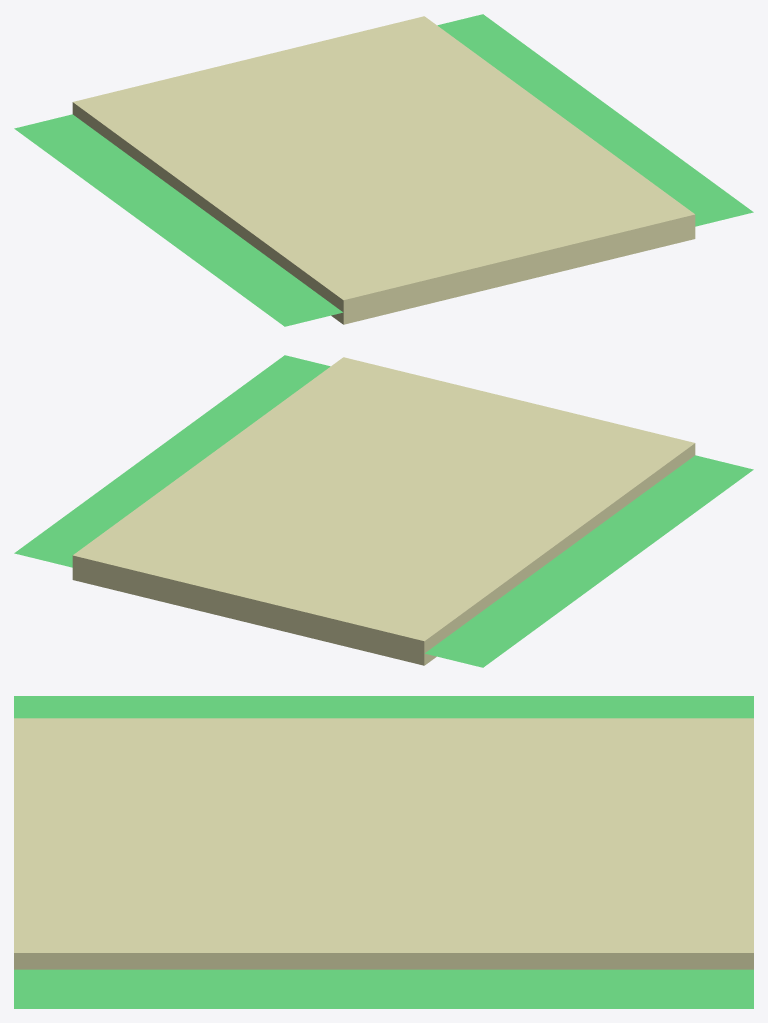
Rendered from nowall_tile.fbx.
The picture shows the model from 3 angles, top to bottom: view 1: azimuth 30°, elevation 25°; view 2: azimuth 150°, elevation 25°; view 3: azimuth 270°, elevation 25°; orthographic projection. The views are drawn at different scales.
Visible parts, largest first — view 1: 1_cube, Plane; view 2: 1_cube, Plane; view 3: 1_cube, Plane.
Boxes of the visible parts, x1,y1,x2,y2 form: 1_cube: (72,16,695,324); Plane: (14,14,753,326); 1_cube: (72,357,695,665); Plane: (14,355,753,667); 1_cube: (14,718,753,969); Plane: (14,696,753,1008).
Size of the model in its own units: 200 by 10 by 200.
